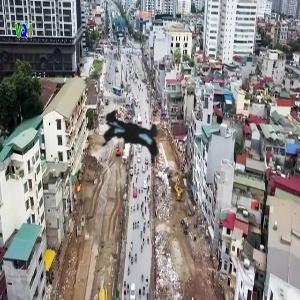drone: (38, 42, 223, 227)
